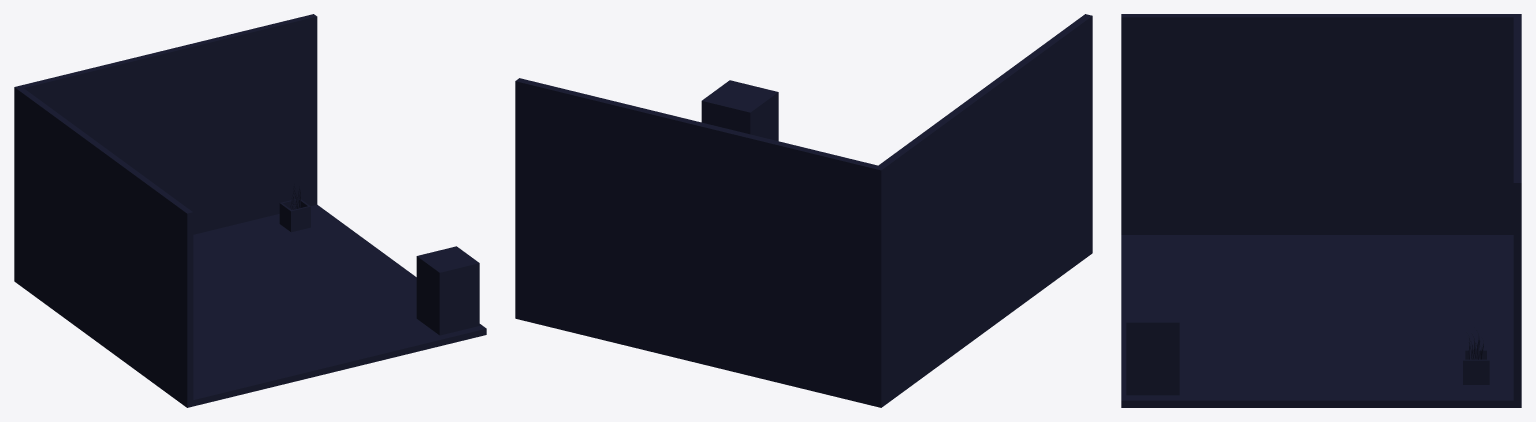
Rendered from foyer.glb.
The picture shows the model from 3 angles, left to right: view 1: azimuth 30°, elevation 25°; view 2: azimuth 150°, elevation 25°; view 3: azimuth 270°, elevation 25°; orthographic projection. The views are drawn at different scales.
Parts seen in each view (by area): view 1: wall_R, floor, wall_L, Cube, plant_1; view 2: wall_R, wall_L, floor, Cube; view 3: wall_L, floor, Cube, wall_R, plant_1.
Boxes of the visible parts, bbox=[...] form: wall_R: bbox=[14, 14, 317, 277]; floor: bbox=[14, 204, 486, 407]; wall_L: bbox=[14, 86, 193, 401]; Cube: bbox=[416, 246, 479, 335]; plant_1: bbox=[279, 184, 310, 232]; wall_R: bbox=[515, 78, 885, 400]; wall_L: bbox=[874, 14, 1092, 399]; floor: bbox=[515, 246, 1092, 407]; Cube: bbox=[701, 80, 778, 141]; wall_L: bbox=[1121, 14, 1521, 234]; floor: bbox=[1121, 235, 1521, 407]; Cube: bbox=[1126, 300, 1179, 395]; wall_R: bbox=[1513, 17, 1521, 400]; plant_1: bbox=[1463, 330, 1489, 384].
Size of the model in its own units: 15 by 9.3 by 15.
